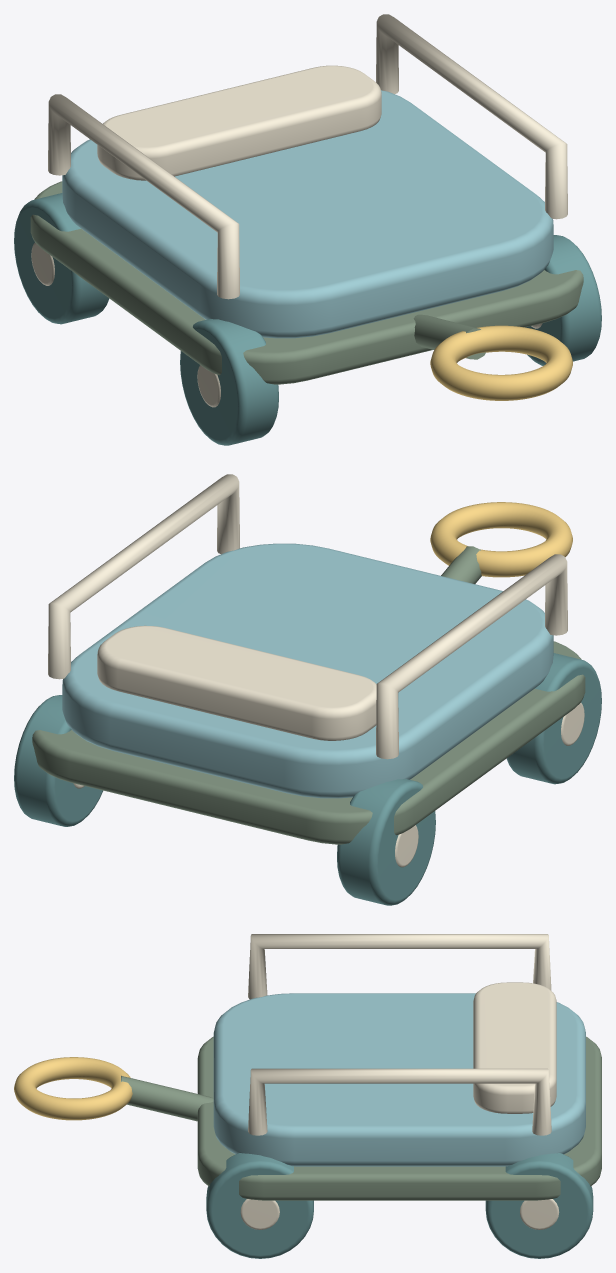
The model's file is Stretcher_Trolley.glb.
3 renders of one model, top to bottom at view 1: azimuth 30°, elevation 25°; view 2: azimuth 150°, elevation 25°; view 3: azimuth 270°, elevation 25°, orthographic. The views are drawn at different scales.
Visible parts, largest first — view 1: Stretcher_mattress, Cart_chassis, Stretcher_pillow, Wheel, Stretcher_guard, Stretcher_guard.001, Tow_ring, Wheel.001, Wheel.002, Tow_bar, Wheel_hub, Wheel_hub.001; view 2: Stretcher_mattress, Cart_chassis, Stretcher_pillow, Wheel.001, Stretcher_guard, Stretcher_guard.001, Tow_ring, Wheel, Wheel.003, Tow_bar, Wheel_hub.001, Wheel_hub; view 3: Stretcher_mattress, Cart_chassis, Stretcher_pillow, Stretcher_guard.001, Wheel.003, Wheel.002, Stretcher_guard, Tow_ring, Tow_bar, Wheel_hub.002, Wheel_hub.003.
Boxes of the visible parts, left/top/right/bottom form: Stretcher_mattress: left=62, top=90, right=553, bottom=338; Cart_chassis: left=30, top=181, right=583, bottom=384; Stretcher_pillow: left=97, top=65, right=381, bottom=180; Wheel: left=180, top=319, right=278, bottom=445; Stretcher_guard: left=48, top=94, right=239, bottom=299; Stretcher_guard.001: left=376, top=14, right=567, bottom=219; Tow_ring: left=430, top=325, right=572, bottom=400; Wheel.001: left=14, top=193, right=109, bottom=324; Wheel.002: left=525, top=235, right=601, bottom=365; Tow_bar: left=413, top=314, right=485, bottom=359; Wheel_hub: left=197, top=365, right=220, bottom=407; Wheel_hub.001: left=31, top=243, right=54, bottom=285; Stretcher_mattress: left=62, top=543, right=553, bottom=798; Cart_chassis: left=32, top=641, right=585, bottom=844; Stretcher_pillow: left=97, top=625, right=376, bottom=740; Wheel.001: left=337, top=779, right=435, bottom=905; Stretcher_guard: left=376, top=554, right=567, bottom=759; Stretcher_guard.001: left=48, top=474, right=239, bottom=679; Tow_ring: left=430, top=502, right=572, bottom=577; Wheel: left=506, top=653, right=601, bottom=784; Wheel.003: left=14, top=695, right=102, bottom=826; Tow_bar: left=441, top=546, right=481, bottom=583; Wheel_hub.001: left=395, top=825, right=418, bottom=867; Wheel_hub: left=561, top=703, right=584, bottom=745; Stretcher_mattress: left=213, top=993, right=585, bottom=1166; Cart_chassis: left=197, top=1036, right=601, bottom=1200; Stretcher_pillow: left=473, top=982, right=556, bottom=1113; Stretcher_guard.001: left=248, top=1068, right=551, bottom=1135; Wheel.003: left=485, top=1153, right=593, bottom=1258; Wheel.002: left=206, top=1153, right=313, bottom=1258; Stretcher_guard: left=248, top=934, right=551, bottom=999; Tow_ring: left=14, top=1057, right=132, bottom=1120; Tow_bar: left=121, top=1075, right=213, bottom=1121; Wheel_hub.002: left=240, top=1199, right=279, bottom=1229; Wheel_hub.003: left=520, top=1199, right=559, bottom=1229.
Size of the model in its own units: 1.48 by 0.8283 by 2.4.
